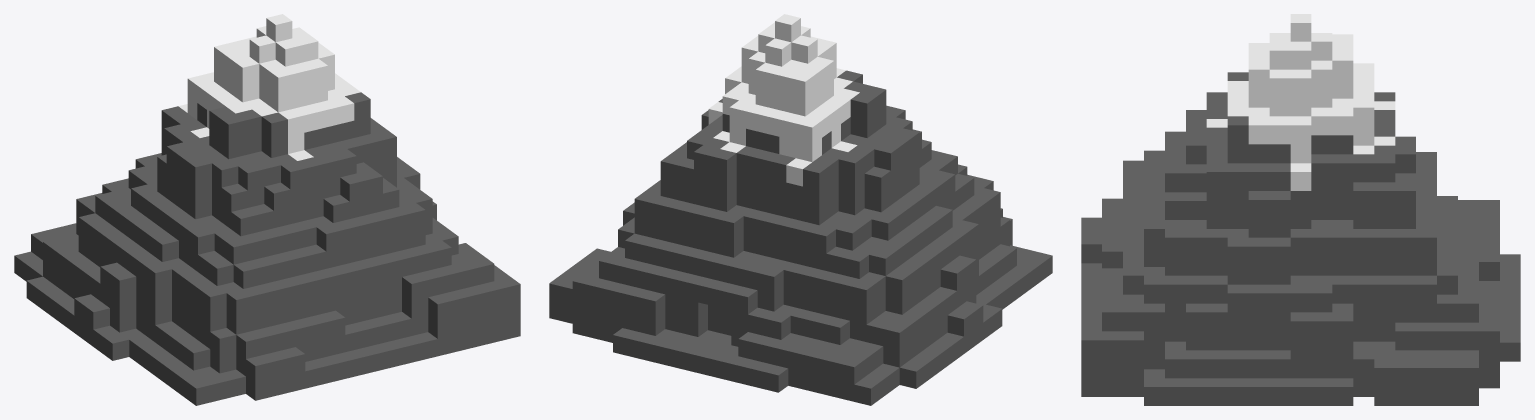
File: mountain_large.obj
The picture shows the model from 3 angles, left to right: view 1: azimuth 30°, elevation 25°; view 2: azimuth 150°, elevation 25°; view 3: azimuth 270°, elevation 25°; orthographic projection. The views are drawn at different scales.
Size of the model in its own units: 21 by 16 by 21.
Materials: 1 (1 with a texture image).
